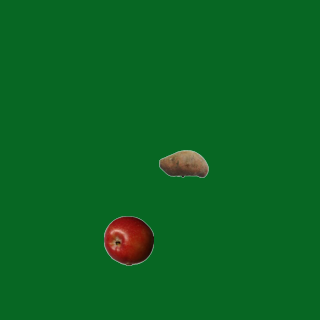Apple Braeburn: (103, 215, 153, 265)
Potato Sweet: (158, 138, 208, 188)
